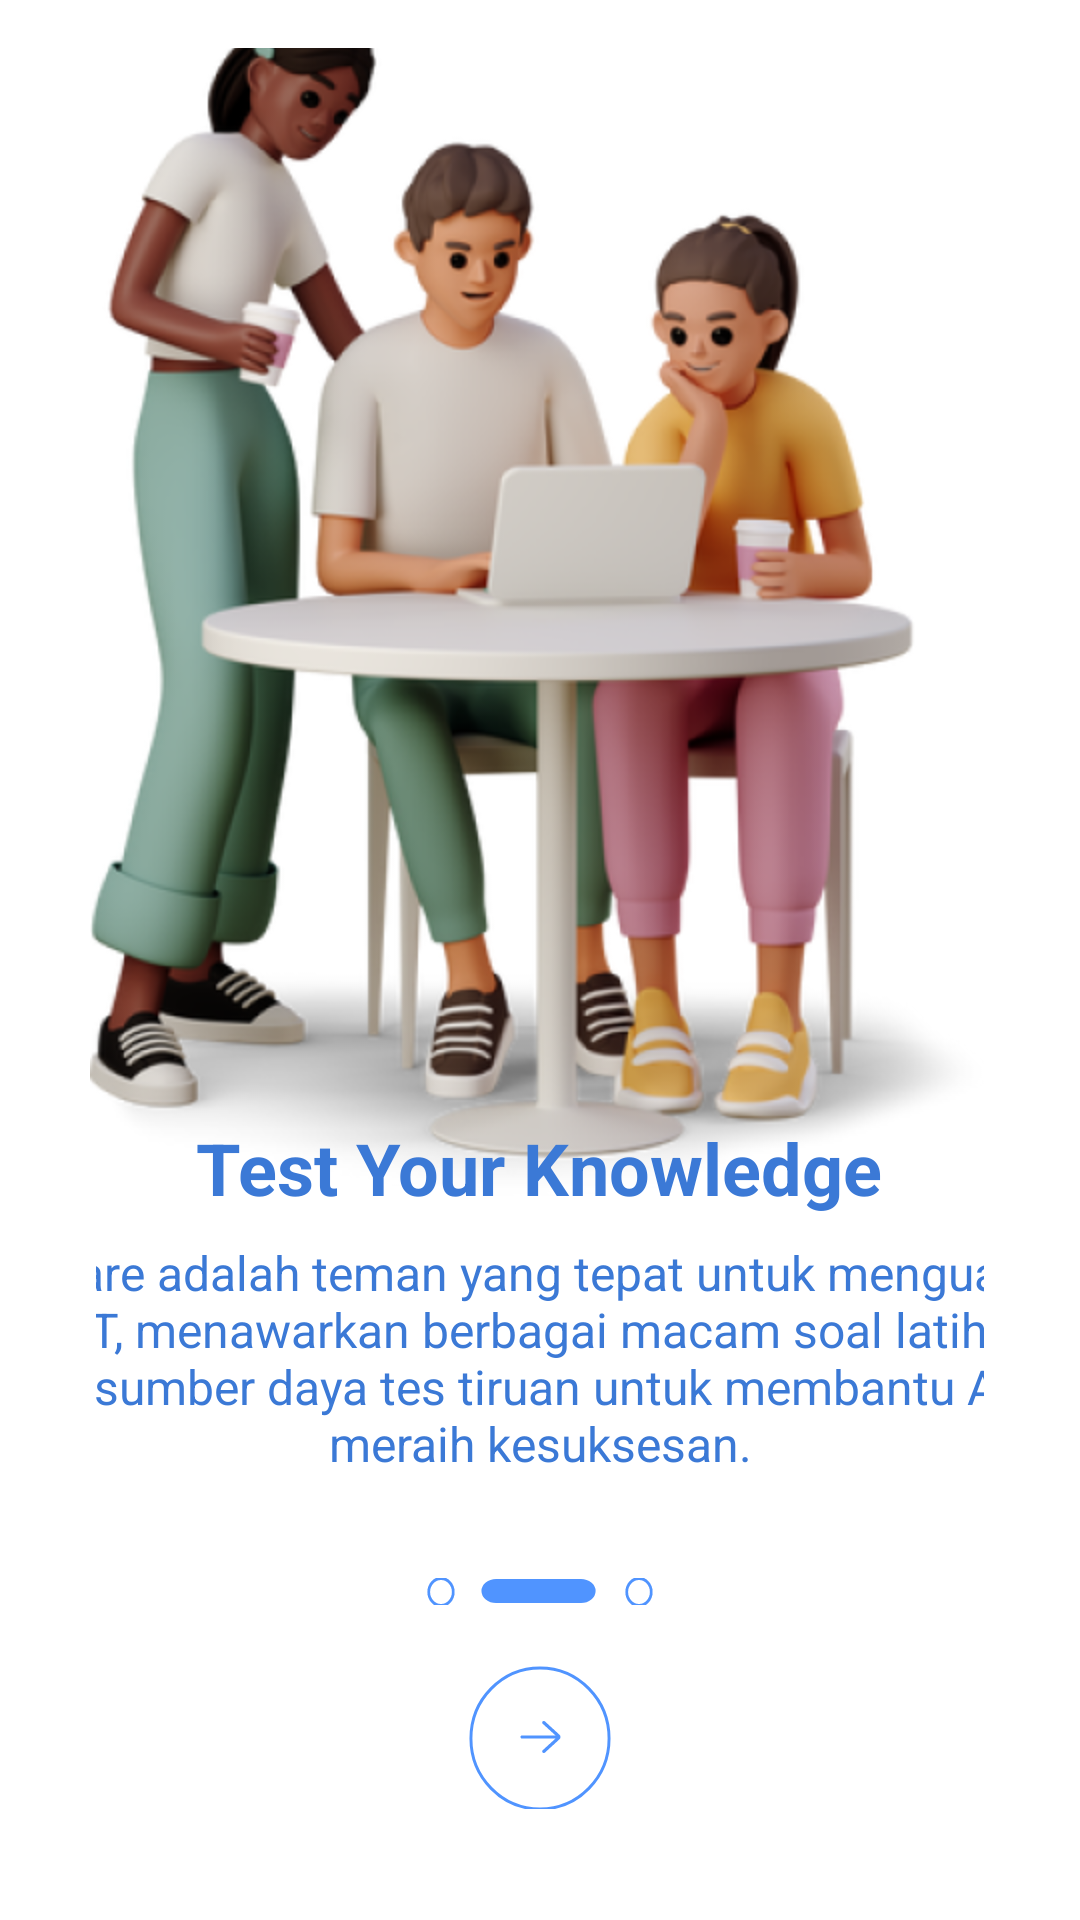

Where icons sit on this 1080x1920 app screen, as (x1, y1, x2, y2):
dot: (427, 1578, 455, 1605), (625, 1578, 653, 1605), (481, 1579, 596, 1603)
next: (469, 1666, 611, 1809)
